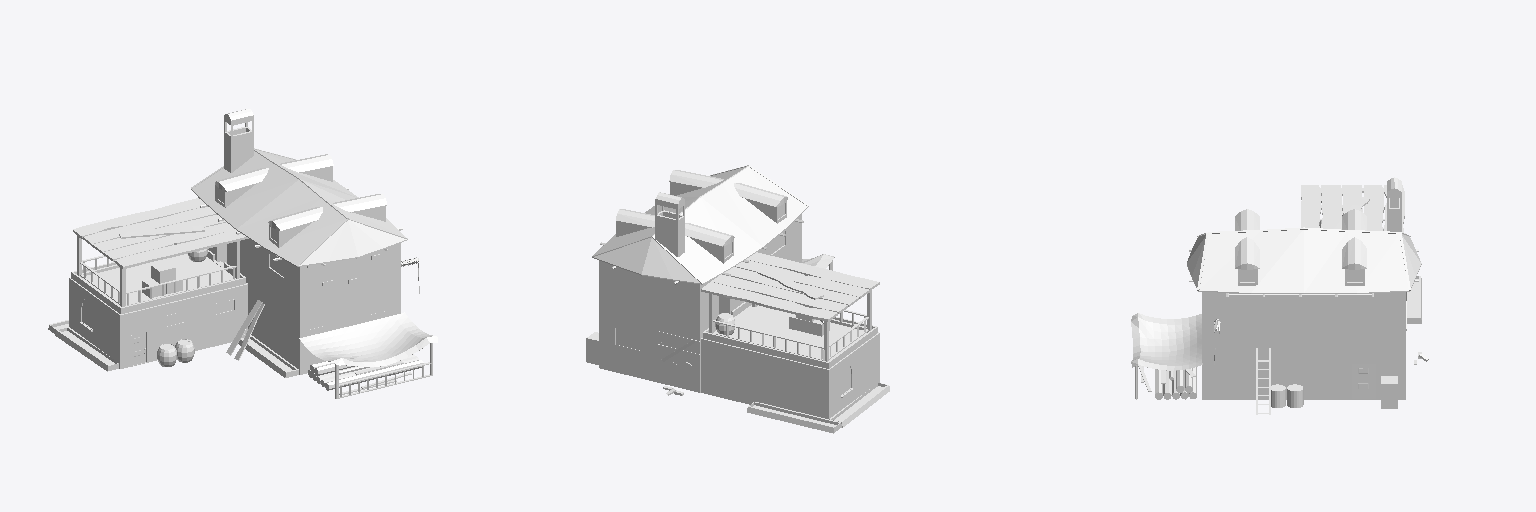
The model's file is old_house.obj.
3 renders of one model, left to right at view 1: azimuth 30°, elevation 25°; view 2: azimuth 150°, elevation 25°; view 3: azimuth 270°, elevation 25°, orthographic.
Parts seen in each view (by area): view 1: _Old_House_2__3D_Models__3Dislands_blogspot_com_; view 2: _Old_House_2__3D_Models__3Dislands_blogspot_com_; view 3: _Old_House_2__3D_Models__3Dislands_blogspot_com_.
Part boxes in pixels (left/top/right/bottom): _Old_House_2__3D_Models__3Dislands_blogspot_com_: left=48, top=109, right=437, bottom=398; _Old_House_2__3D_Models__3Dislands_blogspot_com_: left=586, top=165, right=889, bottom=433; _Old_House_2__3D_Models__3Dislands_blogspot_com_: left=1131, top=177, right=1428, bottom=414.
Size of the model in its own units: 388 by 250 by 363.